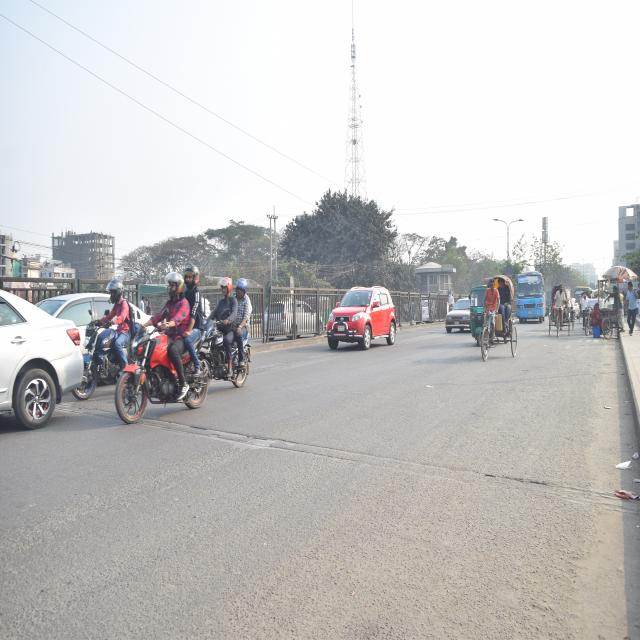bus: (514, 268, 548, 326), (572, 281, 591, 301)
car: (0, 287, 85, 430), (44, 281, 150, 338), (322, 285, 398, 353), (264, 298, 325, 344), (442, 294, 472, 339)
motorbike: (112, 328, 208, 419), (202, 317, 253, 388), (80, 320, 124, 396)
